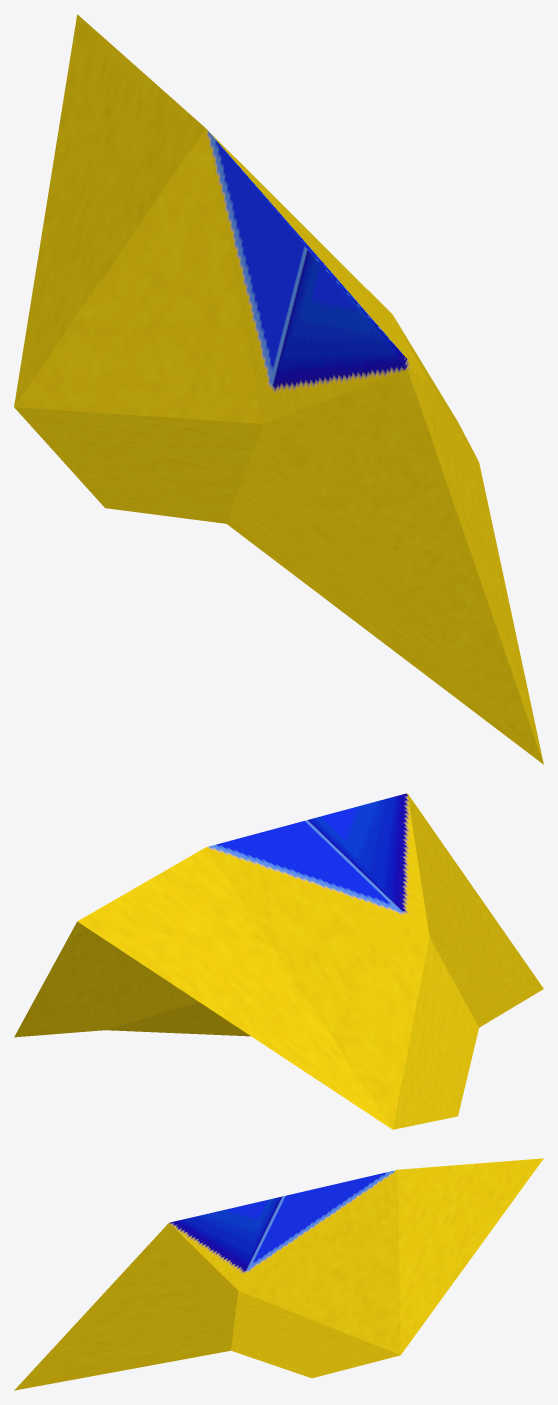
The model's file is crystal_boss_shielding_crystal_shield.obj.
3 renders of one model, top to bottom at view 1: azimuth 30°, elevation 25°; view 2: azimuth 150°, elevation 25°; view 3: azimuth 270°, elevation 25°, orthographic. The views are drawn at different scales.
Visible parts, largest first — view 1: Cylinder; view 2: Cylinder; view 3: Cylinder.
Part boxes in pixels (box(x1,y1,x2,y2)): Cylinder: box(14, 14, 543, 764); Cylinder: box(14, 793, 543, 1129); Cylinder: box(14, 1158, 543, 1390).
Bounding box in the file's own units: 1.76 × 1.82 × 3.76.
